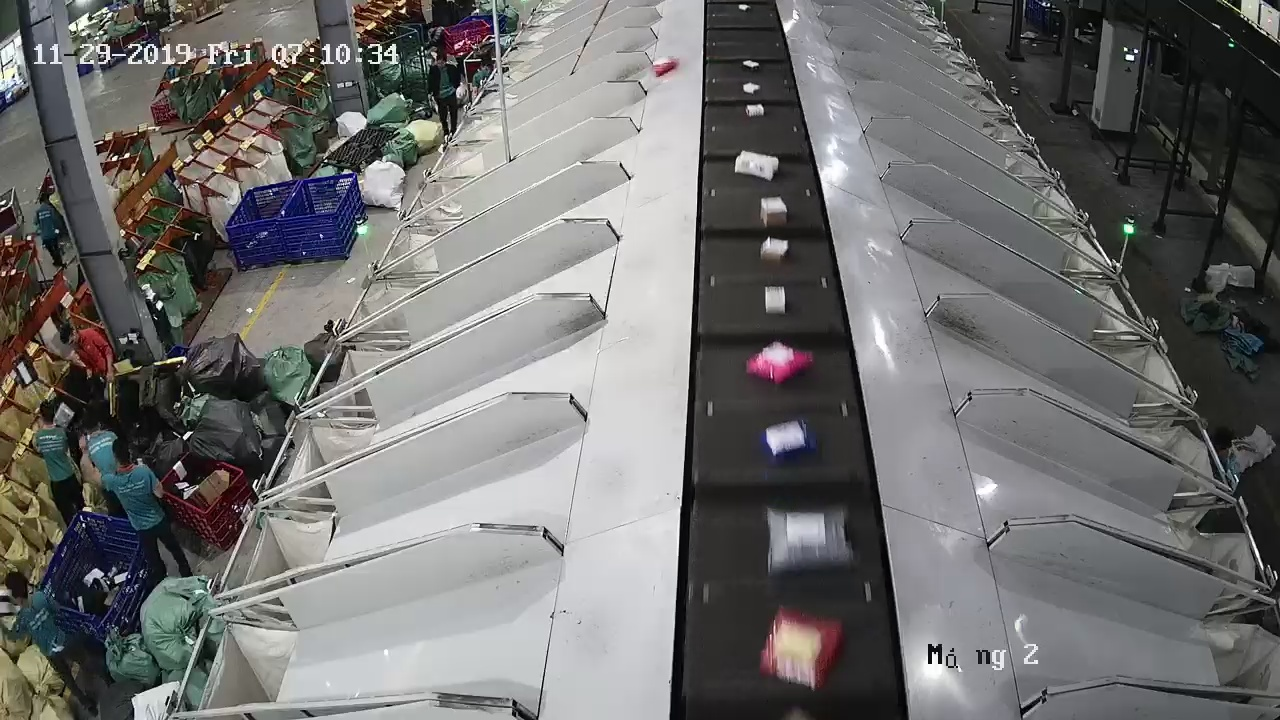parcel: (759, 606, 847, 691), (766, 506, 857, 577), (746, 341, 815, 385), (761, 419, 818, 461), (734, 150, 779, 182), (760, 196, 788, 227), (760, 236, 788, 262), (652, 55, 680, 78), (765, 286, 785, 315), (743, 81, 761, 95), (745, 104, 764, 117), (742, 60, 760, 72)
